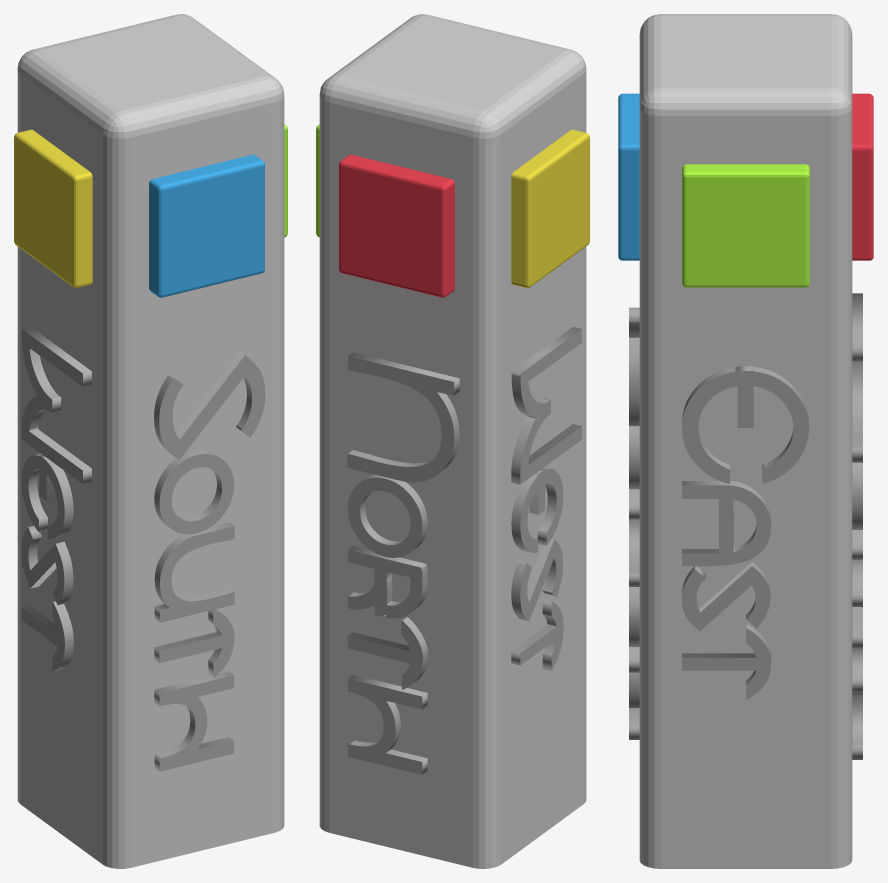
File: works_pole.glb
3 renders of one model, left to right at view 1: azimuth 30°, elevation 25°; view 2: azimuth 150°, elevation 25°; view 3: azimuth 270°, elevation 25°, orthographic. The views are drawn at different scales.
Parts seen in each view (by area): view 1: pole, south_text, south_button, west_text, west_button; view 2: pole, north_text, north_button, west_text, west_button; view 3: pole, east_text, east_button, north_text, south_text, north_button, south_button.
Boxes of the visible parts, left/top/right/bottom form: pole: left=17, top=14, right=284, bottom=868; south_text: left=154, top=351, right=265, bottom=771; south_button: left=149, top=154, right=264, bottom=297; west_text: left=21, top=326, right=91, bottom=671; west_button: left=14, top=129, right=92, bottom=287; pole: left=319, top=14, right=586, bottom=868; north_text: left=347, top=352, right=459, bottom=774; north_button: left=339, top=154, right=454, bottom=297; west_text: left=511, top=327, right=581, bottom=670; west_button: left=511, top=129, right=589, bottom=287; pole: left=639, top=14, right=852, bottom=868; east_text: left=682, top=366, right=808, bottom=699; east_button: left=682, top=164, right=809, bottom=287; north_text: left=852, top=293, right=862, bottom=759; south_text: left=629, top=307, right=639, bottom=739; north_button: left=852, top=93, right=873, bottom=260; south_button: left=618, top=93, right=639, bottom=260.
Size of the model in its own units: 1.2 by 4 by 1.2.
